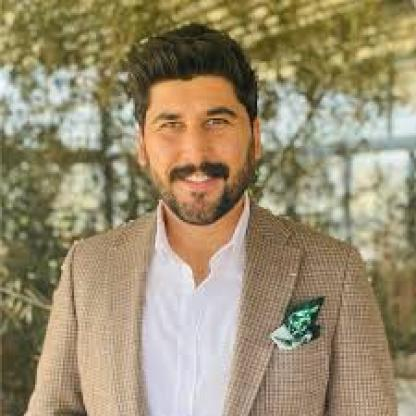person: (120, 25, 261, 226)
